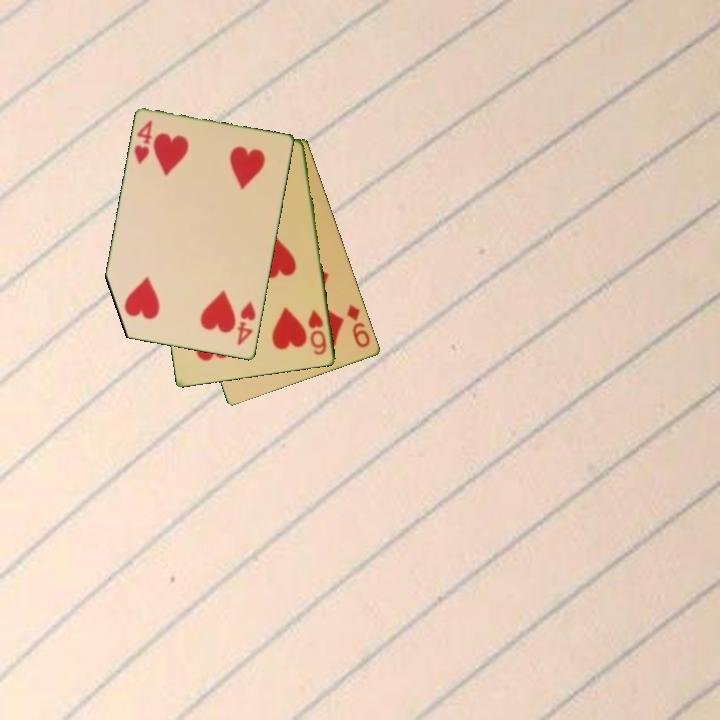4h: (234, 298, 259, 349), (131, 117, 155, 167)
6h: (305, 306, 330, 358)
9d: (343, 301, 373, 351)
